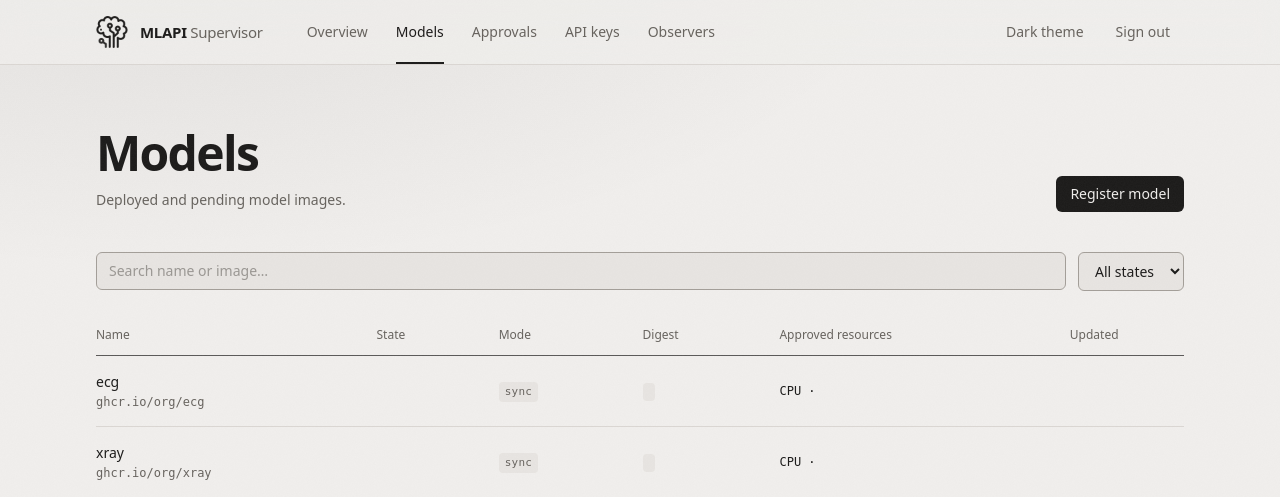
Test case: models › lists models and filters by search
This screenshot has width=1280, height=497.
Expected: the link "xray" is shown, [96,443,124,462]
Expected: the link "ecg" is shown, [96,372,119,391]
Type "ecg" into the search field named "Search models". click: (581, 271)
box: [96,252,1066,290]
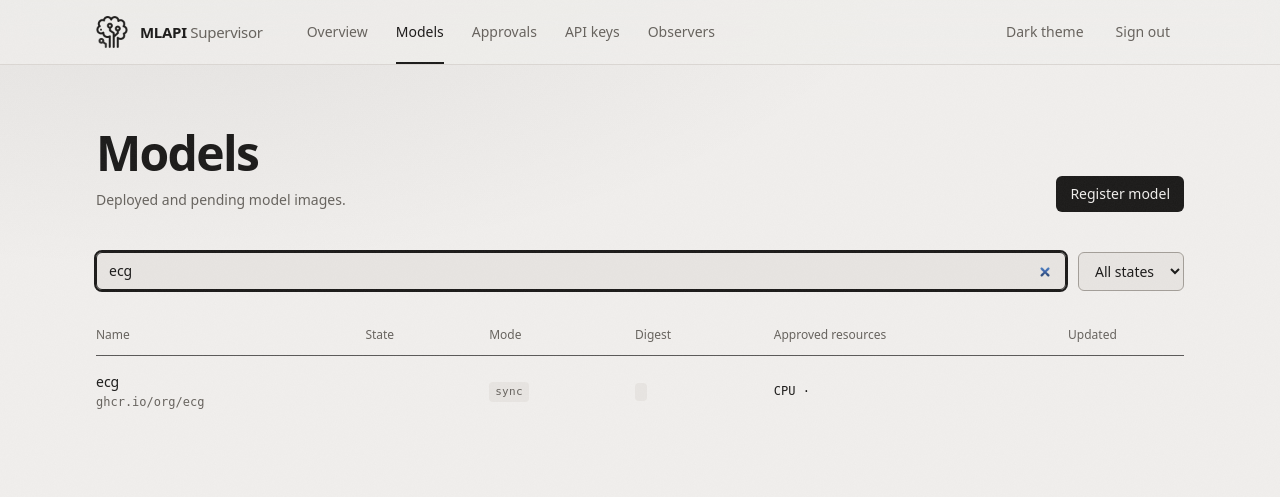
Expected: the link "xray" is gone
